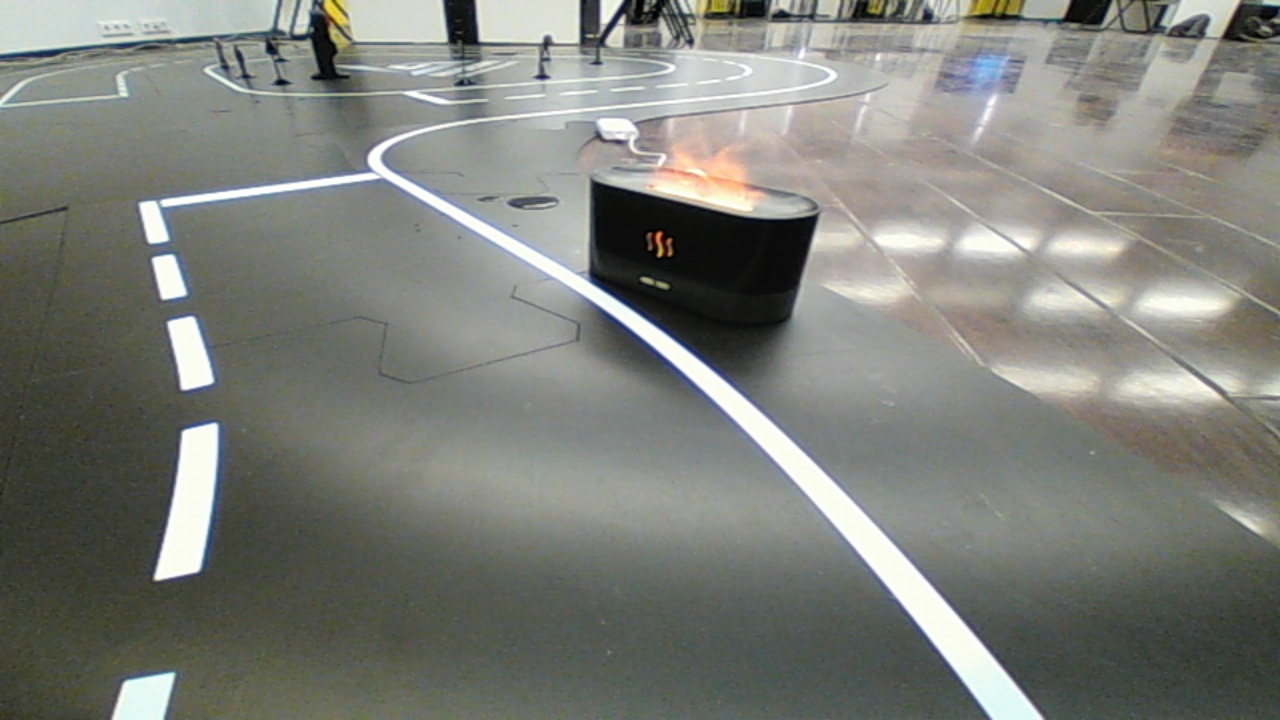Movement prohibition: (558, 148, 840, 343)
